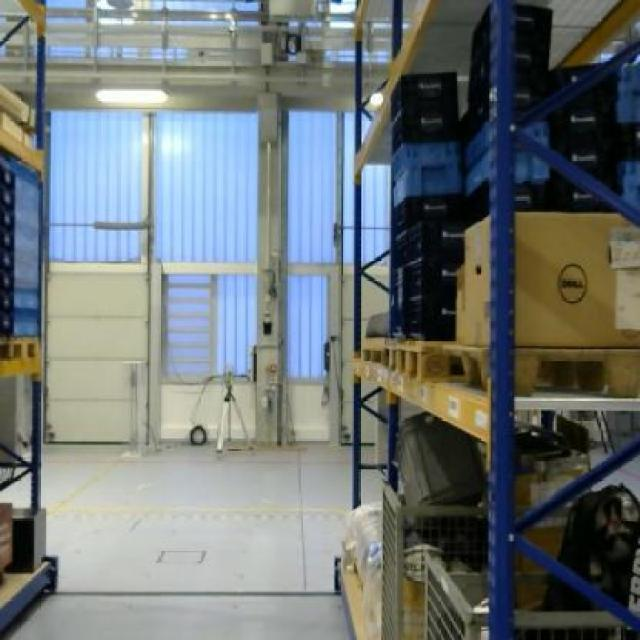box: (458, 208, 638, 348)
